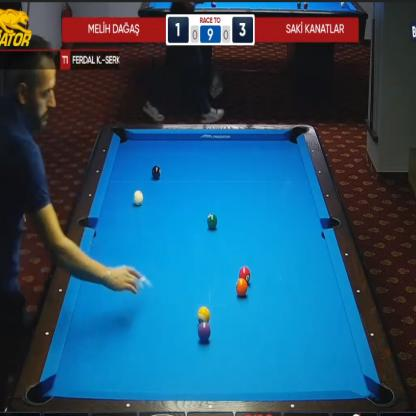Ball: (198, 322, 211, 342), (236, 278, 247, 298), (198, 306, 210, 322), (239, 266, 250, 283), (207, 213, 217, 230), (134, 190, 143, 205), (152, 166, 160, 179)
